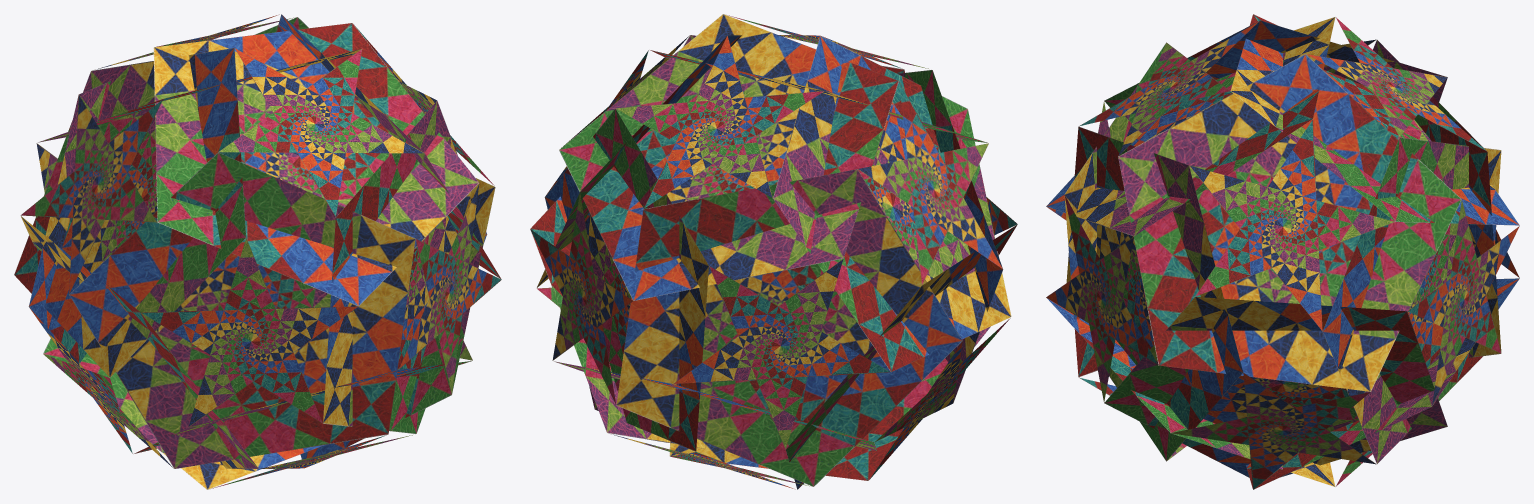
File: SnubIcosidodecadodecahedron6.obj
The picture shows the model from 3 angles, left to right: view 1: azimuth 30°, elevation 25°; view 2: azimuth 150°, elevation 25°; view 3: azimuth 270°, elevation 25°; orthographic projection.
Bounding box in the file's own units: 2.21 × 2.21 × 2.21.
Materials: 1 (1 with a texture image).
